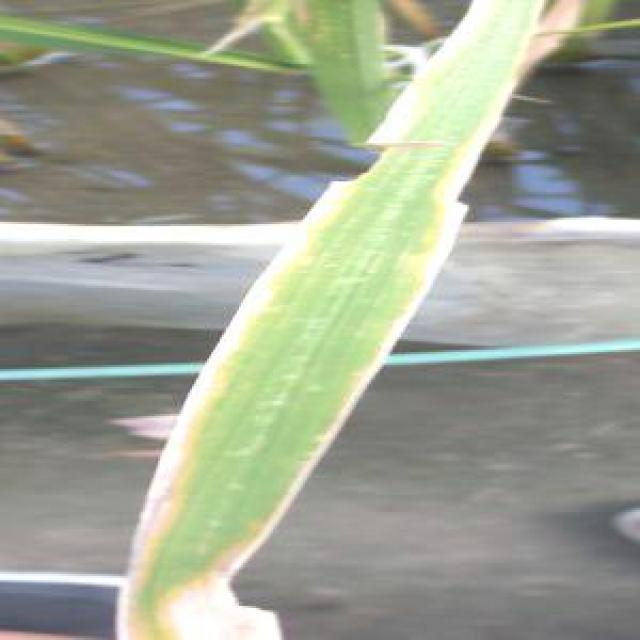Rice_Bacterial_Blight: (130, 235, 373, 638)
